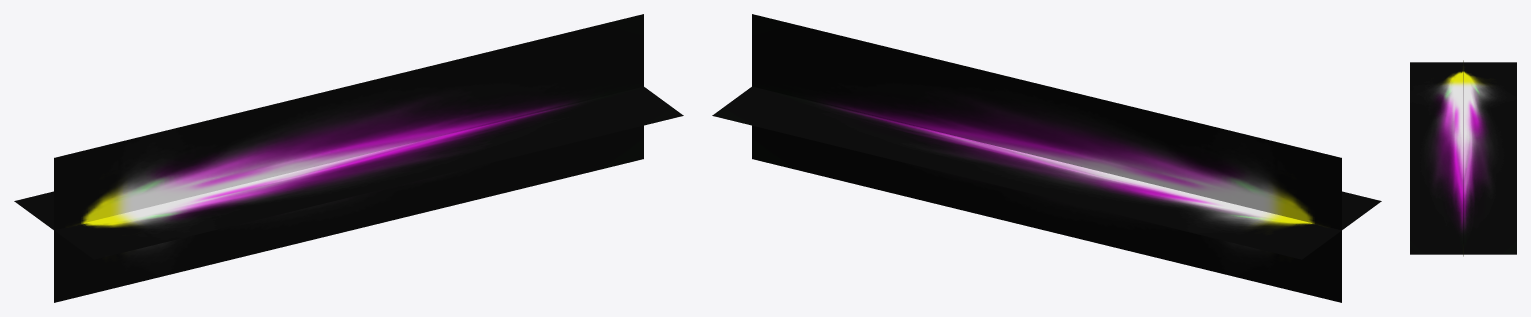
Rendered from Cross.fbx.
3 views of the same model, side by side, from view 1: azimuth 30°, elevation 25°; view 2: azimuth 150°, elevation 25°; view 3: azimuth 270°, elevation 25° (orthographic). The views are drawn at different scales.
Visible parts, largest first — view 1: Eff_Model_CrossPlane_00; view 2: Eff_Model_CrossPlane_00; view 3: Eff_Model_CrossPlane_00.
Part boxes in pixels (x1,y1,x2,y2): Eff_Model_CrossPlane_00: (14, 14, 683, 302); Eff_Model_CrossPlane_00: (712, 14, 1381, 302); Eff_Model_CrossPlane_00: (1410, 60, 1516, 256).
Bounding box in the file's own units: 165 × 38.79 × 38.79.
